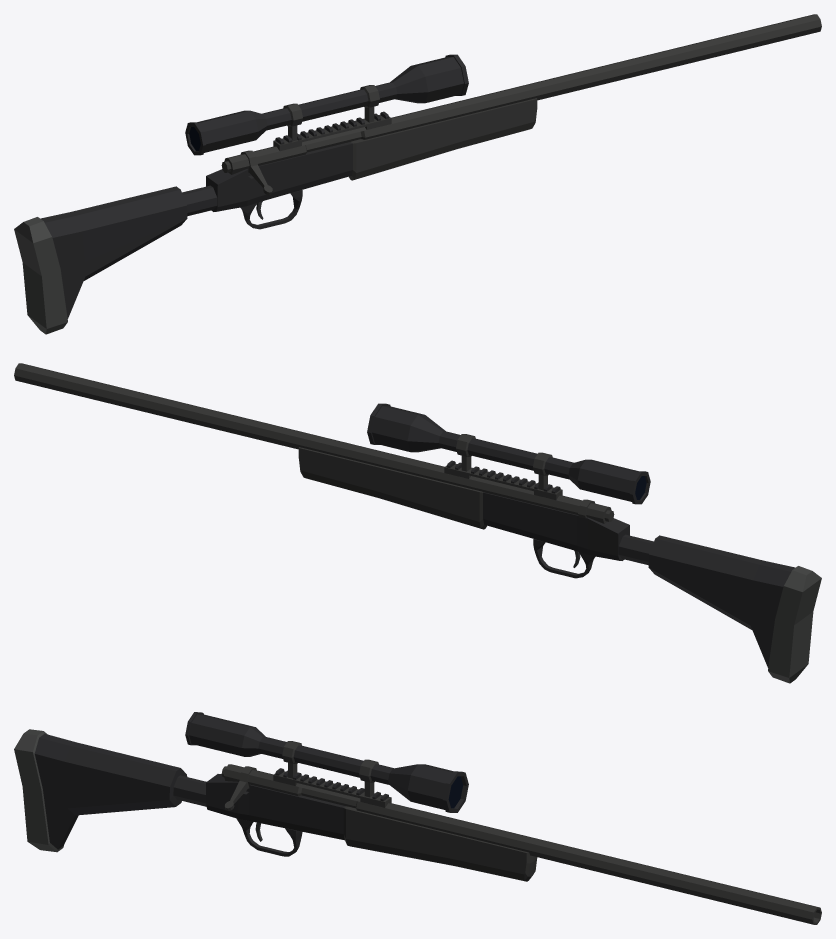
File: dmr.glb
3 renders of one model, top to bottom at view 1: azimuth 30°, elevation 25°; view 2: azimuth 150°, elevation 25°; view 3: azimuth 330°, elevation 25°, orthographic.
Visible parts, largest first — view 1: SniperRifle_4; view 2: SniperRifle_4; view 3: SniperRifle_4.
Part boxes in pixels (bbox=[...]): SniperRifle_4: bbox=[14, 14, 821, 334]; SniperRifle_4: bbox=[14, 363, 821, 683]; SniperRifle_4: bbox=[14, 712, 821, 924].
Bounding box in the file's own units: 6.34 × 1.35 × 0.4594.
Materials: 1 (1 with a texture image).
